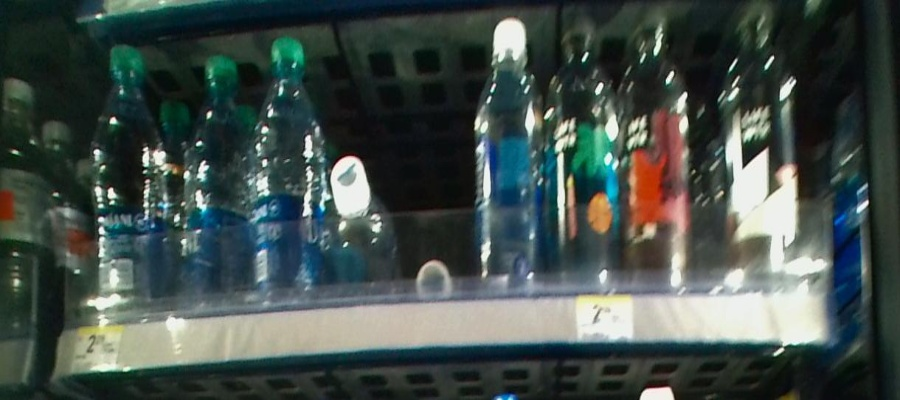bottle: (91, 36, 169, 319), (619, 7, 693, 296), (472, 8, 541, 296), (725, 10, 801, 269), (255, 32, 322, 313), (546, 11, 615, 283), (184, 53, 249, 309), (330, 138, 389, 281)
